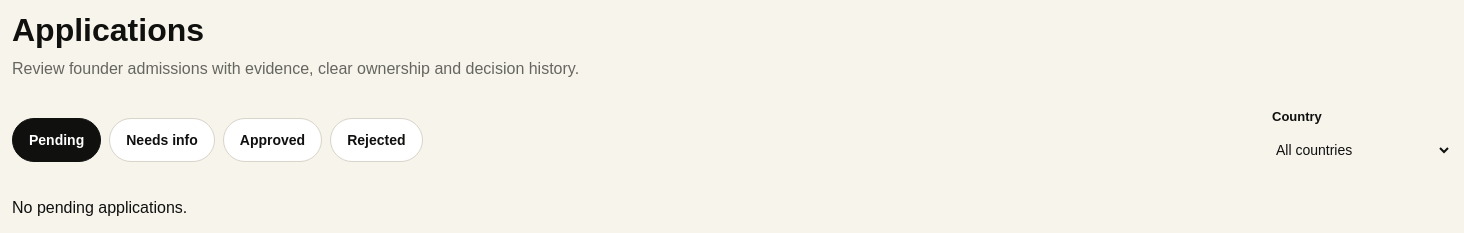
FC-008 admin application review UI › shows empty, denied, and tab changes
Expected: the text "No pending applications." is shown, top-left (12, 199), bottom-right (187, 216)
Click the tab "Needs info" at x=162, y=140, box top-left (109, 118), bottom-right (215, 162)
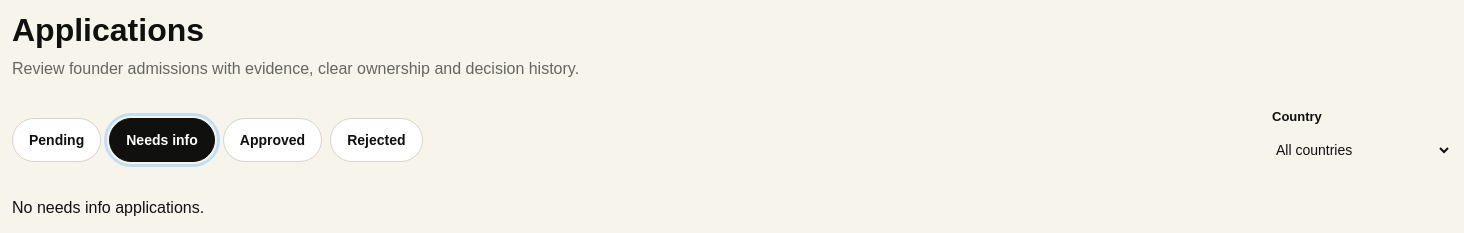
Expected: the text "No needs info applications." is shown, top-left (12, 199), bottom-right (204, 216)
